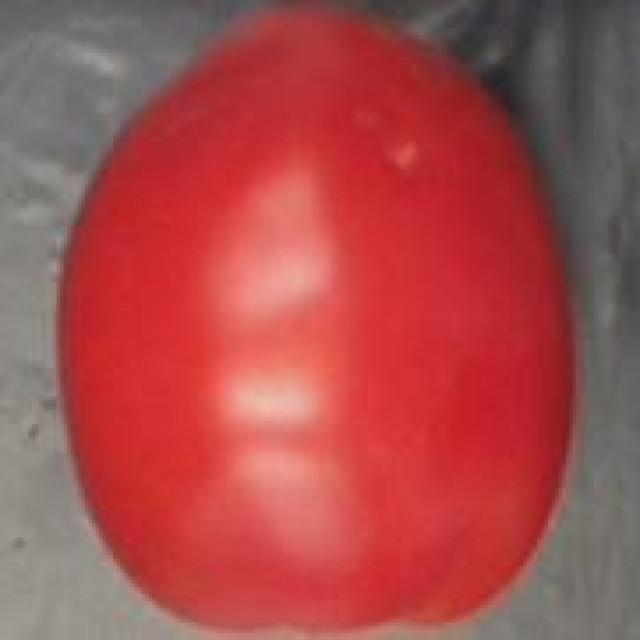ripe tomato: (39, 0, 583, 640)
